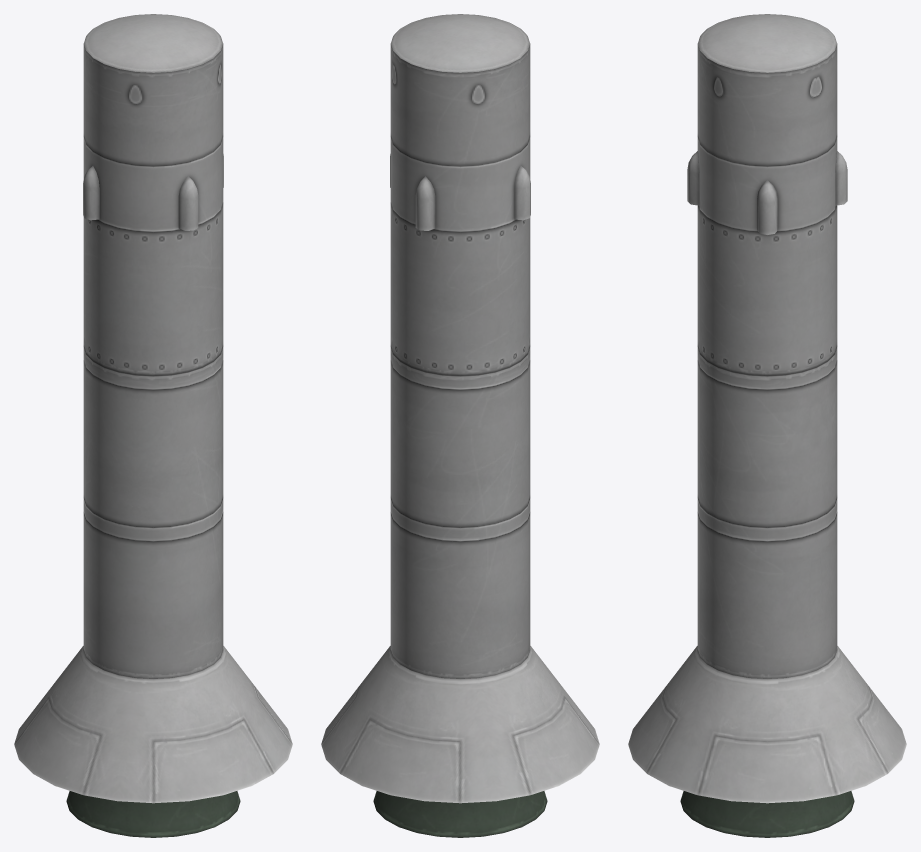
The model's file is alnair_les_s0_2.obj.
The picture shows the model from 3 angles, left to right: view 1: azimuth 30°, elevation 25°; view 2: azimuth 150°, elevation 25°; view 3: azimuth 270°, elevation 25°; orthographic projection.
Parts seen in each view (by area): view 1: mesh1; view 2: mesh1; view 3: mesh1.
Boxes of the visible parts, x1,y1,x2,y2 form: mesh1: (14,14,292,837); mesh1: (321,14,599,837); mesh1: (628,14,906,837).
Size of the model in its own units: 1 by 3.05 by 1.
1 material, 1 textured.
